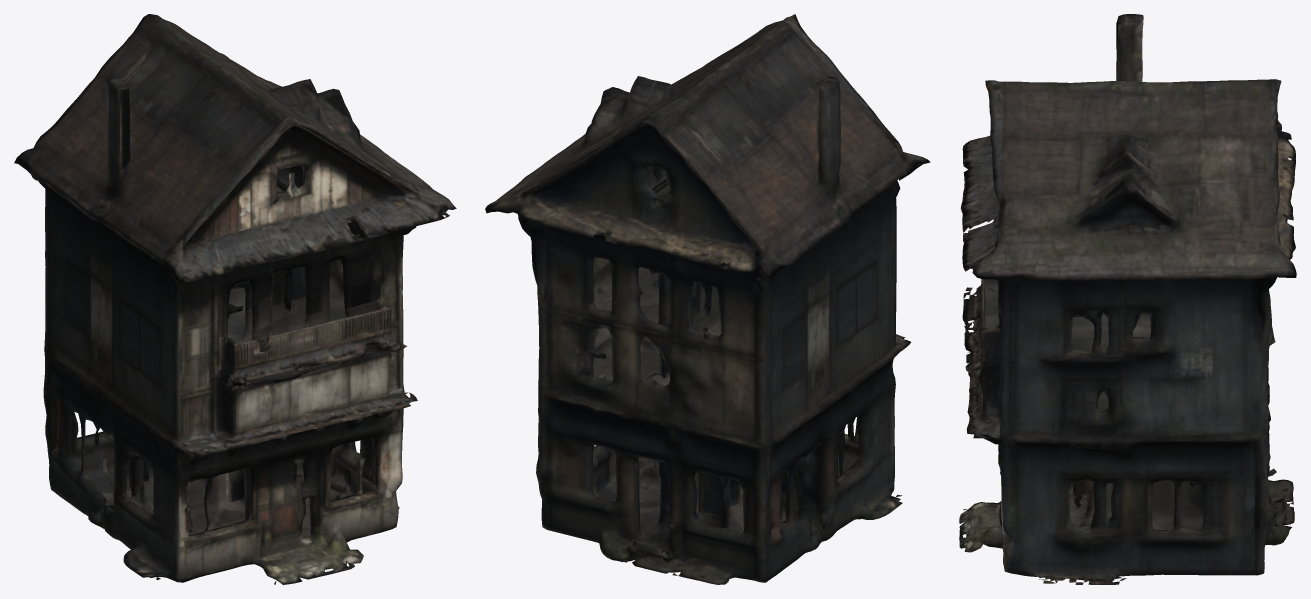
File: Create_a_2_story_hous_0422083414_refine.fbx
3 views of the same model, side by side, from view 1: azimuth 30°, elevation 25°; view 2: azimuth 150°, elevation 25°; view 3: azimuth 270°, elevation 25° (orthographic).
Parts seen in each view (by area): view 1: Mesh1; view 2: Mesh1; view 3: Mesh1.
Part boxes in pixels (box(x1,y1,x2,y2)): Mesh1: box(14, 14, 456, 584); Mesh1: box(485, 14, 930, 584); Mesh1: box(959, 14, 1296, 584).
Size of the model in its own units: 132 by 200 by 133.
Materials: 1 (1 with a texture image).
